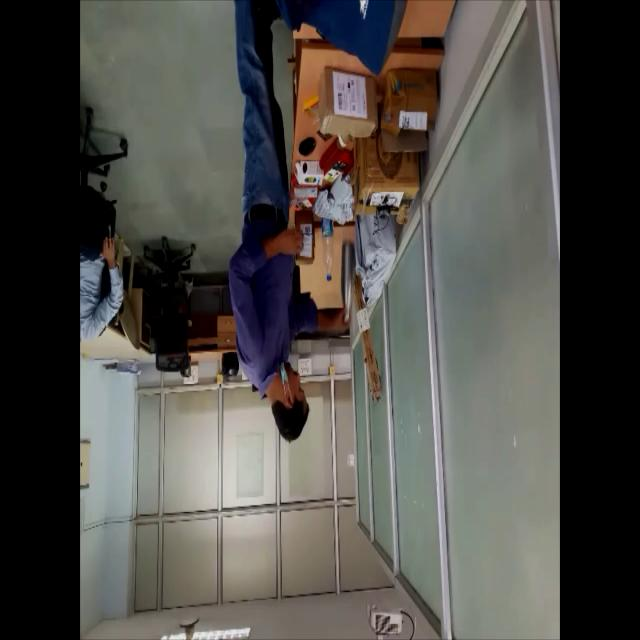normal: (225, 2, 355, 448)
